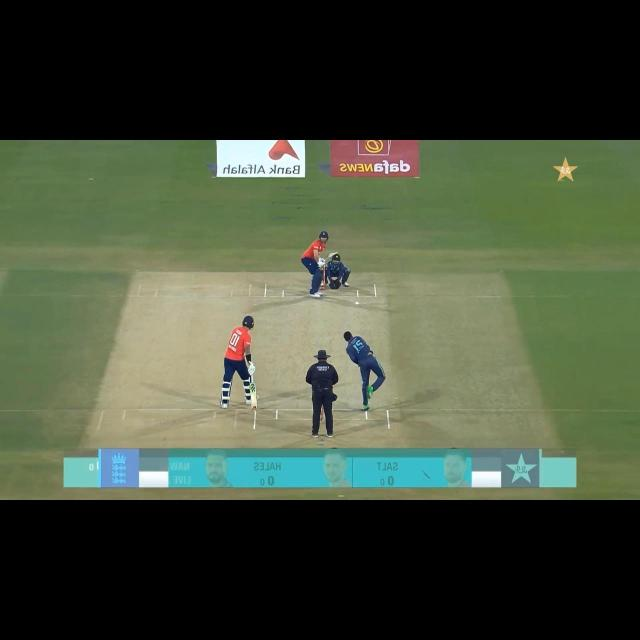bat: (249, 383, 258, 411), (323, 250, 338, 260)
toe: (332, 250, 338, 256), (251, 405, 257, 411)
